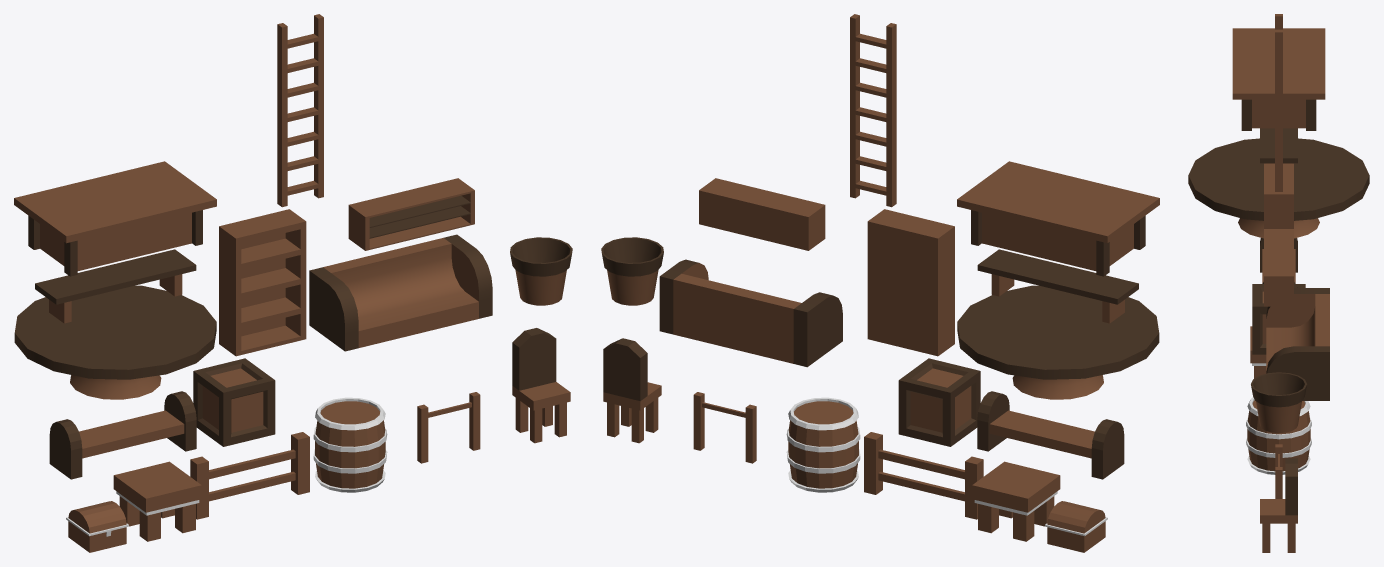
The model's file is Assets.fbx.
The picture shows the model from 3 angles, left to right: view 1: azimuth 30°, elevation 25°; view 2: azimuth 150°, elevation 25°; view 3: azimuth 270°, elevation 25°; orthographic projection. The views are drawn at different scales.
Parts seen in each view (by area): view 1: TableRonde, Canape, TableBureau, Armoire, Tonneau, Meuble, Boite, Banc, Echelle, Chaise, Tabouret, Banc2 (+4 smaller); view 2: TableRonde, TableBureau, Canape, Armoire, Tonneau, Meuble, Boite, Banc, Echelle, Tabouret, Banc2, Chaise (+4 smaller); view 3: TableRonde, TableBureau, Canape, Tonneau, Pot, Meuble, Chaise, Armoire, Echelle, Banc2, Boite, Barriere (+2 smaller).
Boxes of the visible parts, box(x1,y1,x2,y2) form: TableRonde: box(14, 285, 216, 399); Canape: box(309, 234, 492, 351); TableBureau: box(14, 161, 216, 276); Armoire: box(219, 209, 306, 356); Tonneau: box(313, 397, 387, 492); Meuble: box(348, 178, 474, 250); Boite: box(193, 358, 275, 446); Banc: box(49, 391, 196, 479); Echelle: box(277, 14, 323, 207); Chaise: box(512, 328, 570, 443); Tabouret: box(113, 461, 201, 541); Banc2: box(35, 249, 196, 323); TableRonde: box(957, 285, 1159, 399); TableBureau: box(957, 161, 1159, 276); Canape: box(659, 259, 842, 367); Armoire: box(867, 209, 954, 356); Tonneau: box(786, 397, 860, 492); Meuble: box(699, 178, 825, 250); Boite: box(898, 358, 980, 446); Banc: box(977, 391, 1124, 479); Echelle: box(850, 14, 896, 207); Tabouret: box(972, 461, 1060, 541); Banc2: box(977, 249, 1138, 323); Chaise: box(603, 338, 661, 443); TableRonde: box(1188, 138, 1369, 238); TableBureau: box(1232, 28, 1325, 130); Canape: box(1266, 288, 1329, 400); Tonneau: box(1246, 397, 1311, 474); Pot: box(1251, 372, 1306, 432); Meuble: box(1264, 229, 1293, 306); Chaise: box(1260, 458, 1297, 552); Armoire: box(1264, 163, 1293, 228); Echelle: box(1275, 14, 1282, 191); Banc2: box(1260, 128, 1297, 163); Boite: box(1252, 284, 1305, 354); Barriere: box(1275, 444, 1282, 498).
Size of the model in its own units: 2924 by 2428 by 952.
